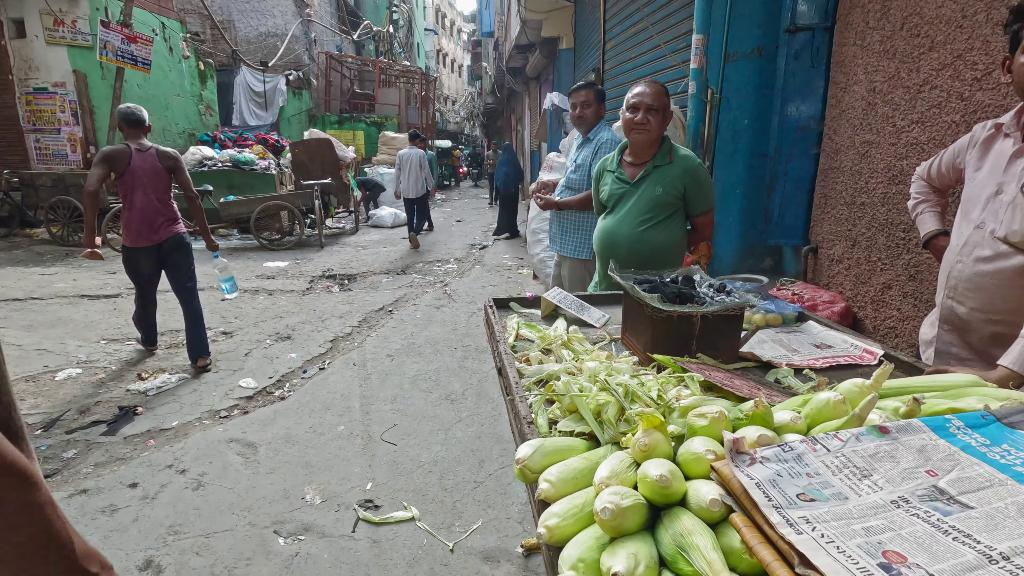garbage: (129, 372, 191, 395), (212, 251, 241, 300)
